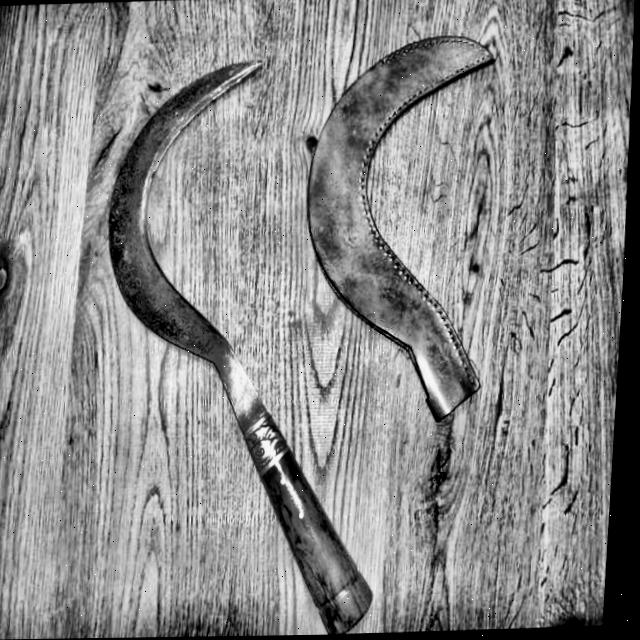celurit: (82, 52, 385, 633)
